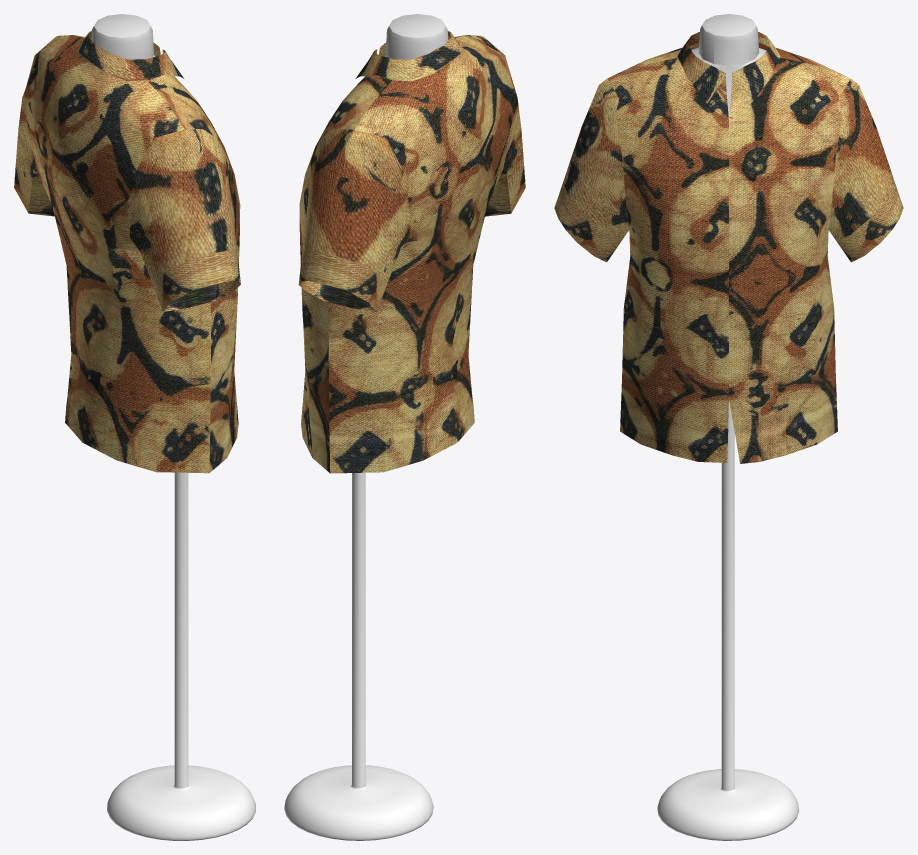
The model's file is Batik3.glb.
The picture shows the model from 3 angles, left to right: view 1: azimuth 30°, elevation 25°; view 2: azimuth 150°, elevation 25°; view 3: azimuth 270°, elevation 25°; orthographic projection. The views are drawn at different scales.
Parts seen in each view (by area): view 1: 1.002, 5.030; view 2: 1.002, 5.030; view 3: 1.002, 5.030.
Part boxes in pixels (x1=…): 1.002: x1=14, y1=14, x2=240, y2=473; 5.030: x1=107, y1=472, x2=255, y2=840; 1.002: x1=298, y1=14, x2=525, y2=473; 5.030: x1=284, y1=472, x2=433, y2=840; 1.002: x1=554, y1=14, x2=903, y2=463; 5.030: x1=657, y1=400, x2=799, y2=840.
Size of the model in its own units: 32.02 by 132 by 54.84.
3 materials, 1 textured.
